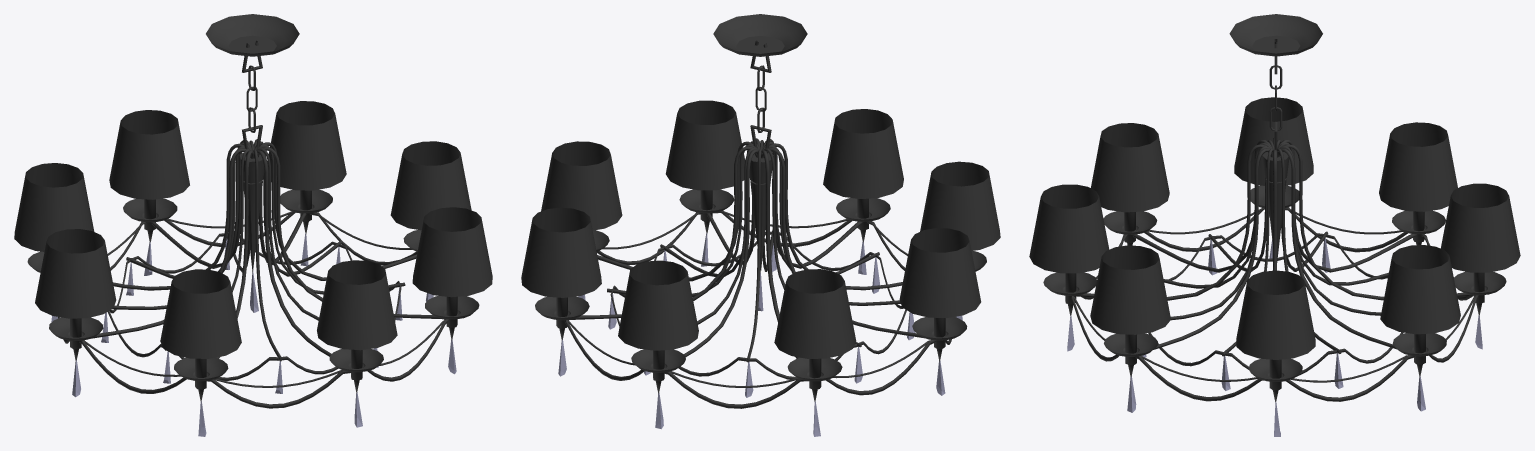
File: SM_Luster_02.FBX
The picture shows the model from 3 angles, left to right: view 1: azimuth 30°, elevation 25°; view 2: azimuth 150°, elevation 25°; view 3: azimuth 270°, elevation 25°; orthographic projection.
Parts seen in each view (by area): view 1: SM_Luster_02; view 2: SM_Luster_02; view 3: SM_Luster_02.
Part boxes in pixels (x1,y1,x2,y2): SM_Luster_02: (14, 14, 492, 436); SM_Luster_02: (521, 14, 1000, 436); SM_Luster_02: (1029, 14, 1520, 436).
Size of the model in its own units: 130 by 130 by 91.78.
